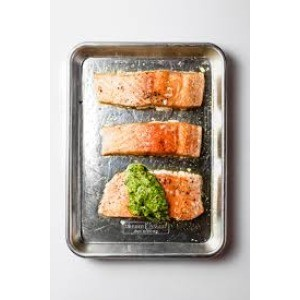salmon_brain food: (96, 64, 201, 230)
